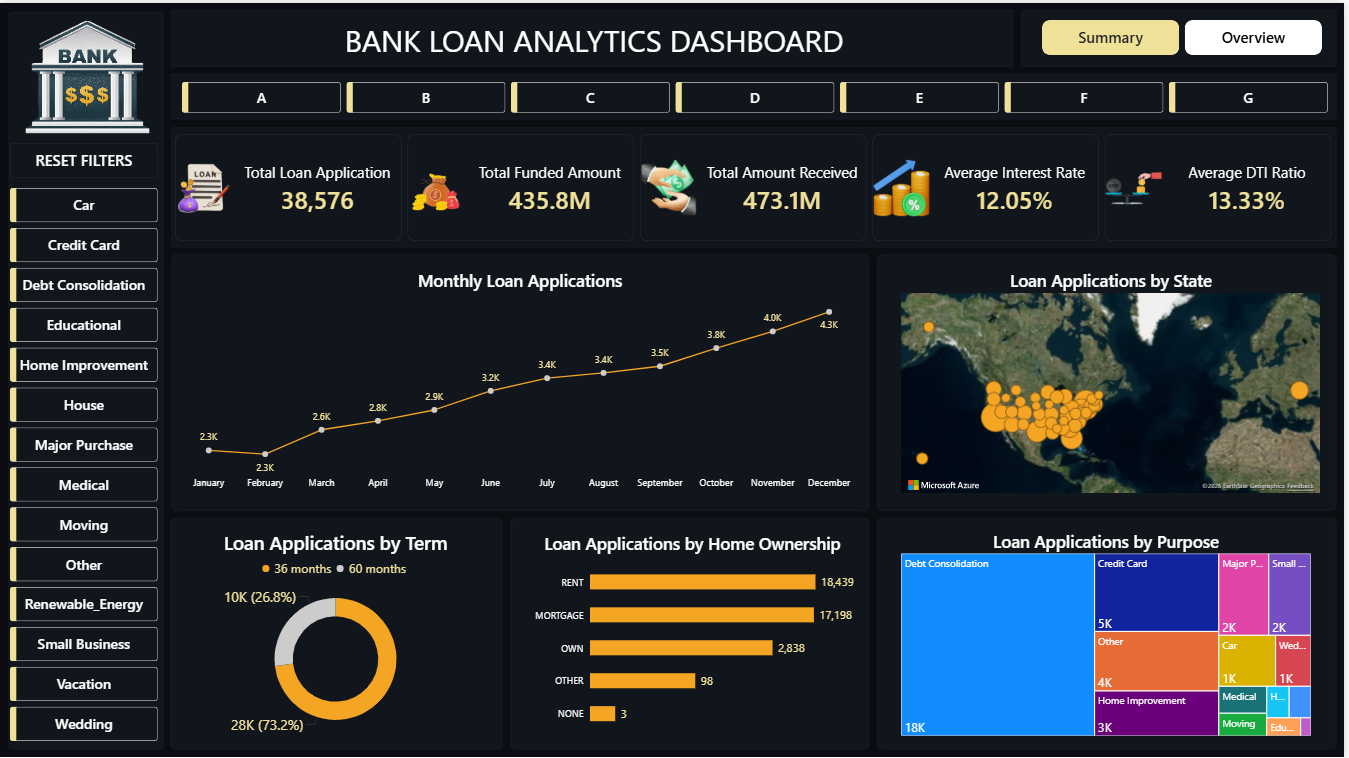

This screenshot's page, from the dashboard's own definition file:
{"tool":"powerbi","page":{"name":"Overview","canvas":[1920,1080],"ordinal":1},"visuals":[{"type":"cardVisual","fields":{"Data":["financial_loan.Total Loan Application","financial_loan.Total Funded Amount","financial_loan.Total Amount Received","financial_loan.Average Interest Rate","financial_loan.Average DTI Rate"]},"box":[250,187.8,1653.3,153.3],"z":0},{"type":"image","box":[0,0,250,210],"z":1000},{"type":"advancedSlicerVisual","fields":{"Values":["financial_loan.PURPOSE"]},"box":[14.3,264.3,211.4,802.9],"z":2000},{"type":"advancedSlicerVisual","fields":{"Values":["financial_loan.GRADE"]},"box":[260,113,1643,44],"z":3000},{"type":"actionButton","box":[14.3,200,211.4,50],"z":4000},{"type":"textbox","box":[250,24.3,1197.1,68.6],"z":5000},{"type":"pageNavigator","box":[1488.6,24.3,400,50],"z":6000},{"type":"lineChart","title":"Monthly Loan Applications","fields":{"Category":["financial_loan.ISSUE_DATE.Variation.Date Hierarchy.Month"],"Y":["financial_loan.Total Loan Application"]},"box":[250,365.7,985.7,348.6],"z":7000},{"type":"donutChart","title":"Loan Applications by Term","fields":{"Category":["financial_loan.TERM"],"Y":["financial_loan.Total Loan Application"]},"box":[250,738.6,458.6,328.6],"z":8000},{"type":"clusteredBarChart","title":"Loan Applications by Home Ownership","fields":{"Category":["financial_loan.HOME_OWNERSHIP"],"Y":["financial_loan.Total Loan Application"]},"box":[742.9,741.4,492.9,321.4],"z":9000},{"type":"treemap","title":"Loan Applications by Purpose","fields":{"Group":["financial_loan.PURPOSE"],"Values":["financial_loan.Total Loan Application"]},"box":[1271.4,738.6,617.1,324.3],"z":10000},{"type":"azureMap","title":"Loan Applications by State","fields":{"Category":["financial_loan.ADDRESS_STATE"],"Size":["financial_loan.Total Loan Application"]},"box":[1271.4,365.7,631.4,350],"z":11000}]}

Visuals, with their boxes in screenshot pixels (x1, y1, x2, y2), scaled from the page's 1920x1080 canvas onto the 1349x758 screenshot:
cardVisual - financial_loan.Total Loan Application x financial_loan.Total Funded Amount: bbox=(176, 132, 1337, 239)
image: bbox=(0, 0, 176, 147)
advancedSlicerVisual - financial_loan.PURPOSE: bbox=(10, 185, 159, 749)
advancedSlicerVisual - financial_loan.GRADE: bbox=(183, 79, 1337, 110)
actionButton: bbox=(10, 140, 159, 175)
textbox: bbox=(176, 17, 1017, 65)
pageNavigator: bbox=(1046, 17, 1327, 52)
"Monthly Loan Applications" lineChart: bbox=(176, 257, 868, 501)
"Loan Applications by Term" donutChart: bbox=(176, 518, 498, 749)
"Loan Applications by Home Ownership" clusteredBarChart: bbox=(522, 520, 868, 746)
"Loan Applications by Purpose" treemap: bbox=(893, 518, 1327, 746)
"Loan Applications by State" azureMap: bbox=(893, 257, 1337, 502)
